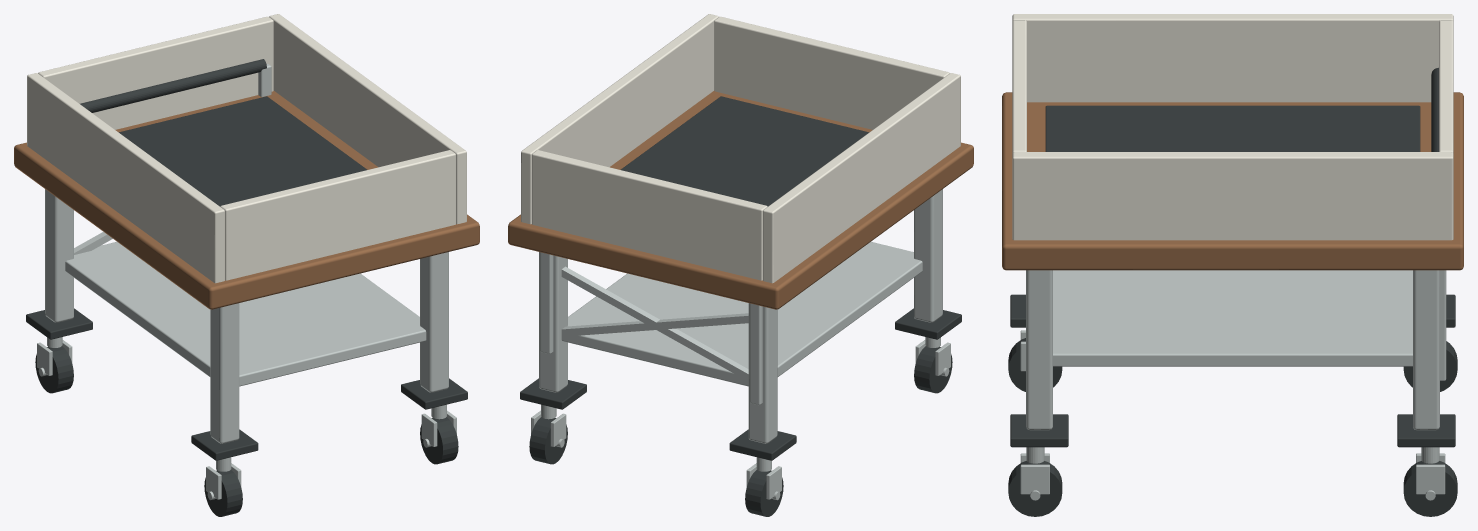
The model's file is tea-garden-and-processing-house-tea-garden-and-process-8ba7b835__30768.glb.
The picture shows the model from 3 angles, left to right: view 1: azimuth 30°, elevation 25°; view 2: azimuth 150°, elevation 25°; view 3: azimuth 270°, elevation 25°; orthographic projection. The views are drawn at different scales.
Visible parts, largest first — view 1: tea-garden-and-processing-house-leaf-transfer-cart; view 2: tea-garden-and-processing-house-leaf-transfer-cart; view 3: tea-garden-and-processing-house-leaf-transfer-cart.
Boxes of the visible parts, x1,y1,x2,y2 form: tea-garden-and-processing-house-leaf-transfer-cart: (14, 14, 479, 516); tea-garden-and-processing-house-leaf-transfer-cart: (508, 14, 973, 516); tea-garden-and-processing-house-leaf-transfer-cart: (1002, 14, 1463, 516).
Bounding box in the file's own units: 0.8801 × 0.97 × 1.11.
